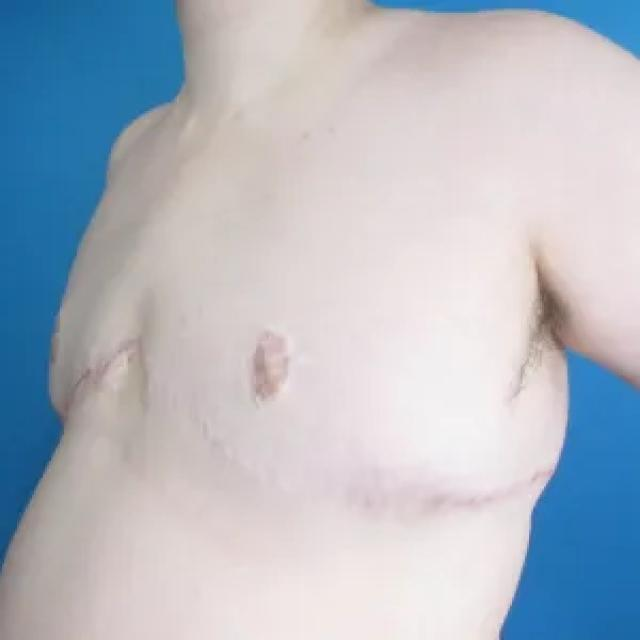Seno herido: (151, 156, 578, 545), (38, 156, 144, 450)
